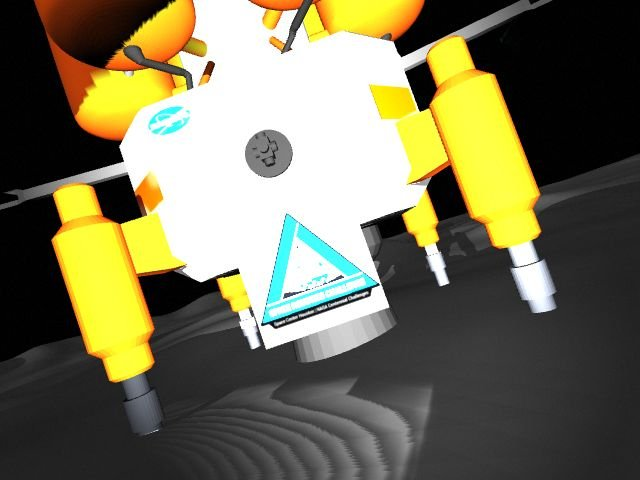basemarker: (261, 213, 380, 329)
